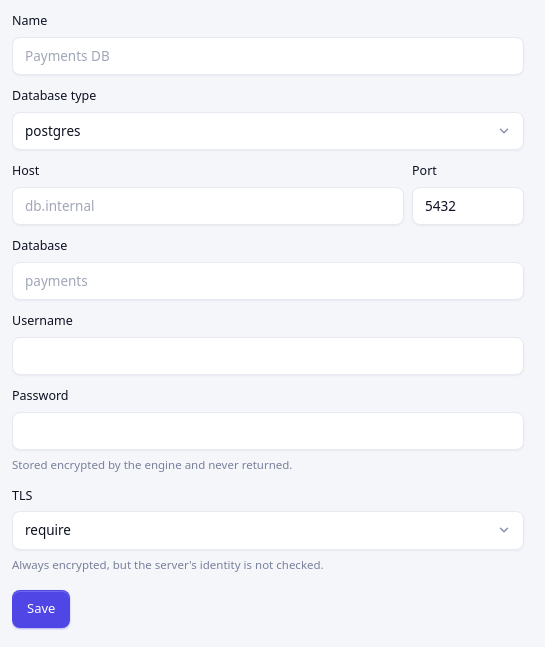
Test case: TLS mode › offers no TLS control for a SQLite file
The image size is (545, 647).
Select "sqlite" in the dropdown labelled "Database type": (268, 131) [12,112,524,150]
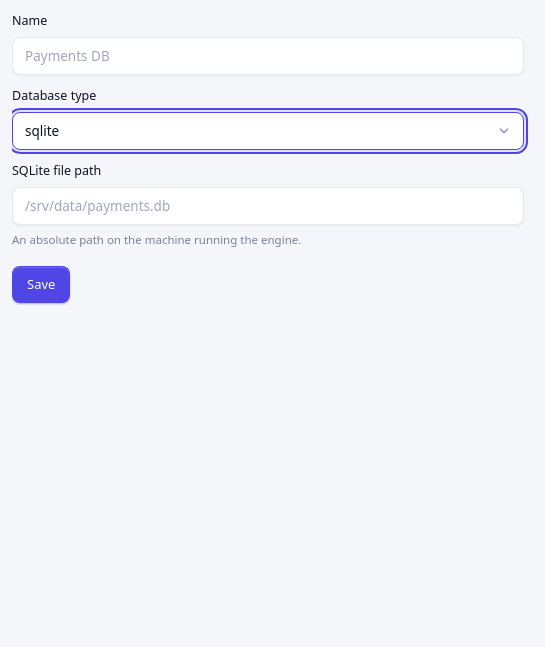
Expected: the label labelled "TLS" is gone
